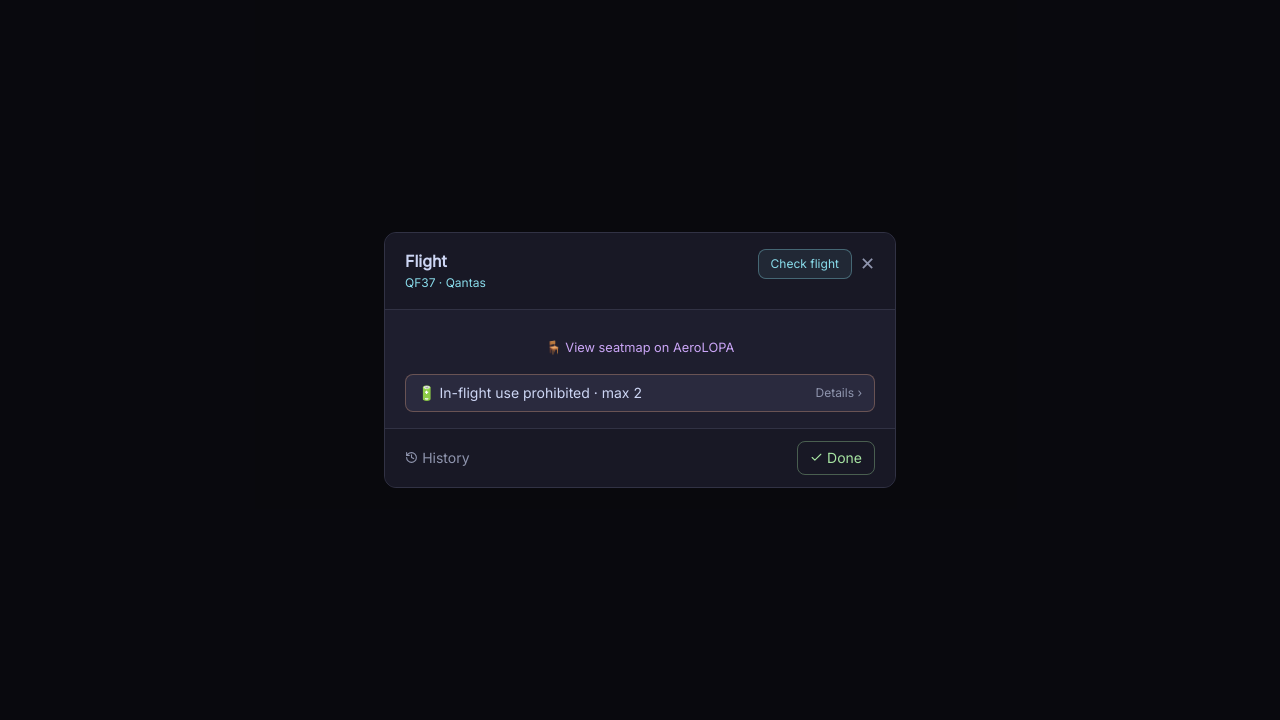
Test case: FlightDetailModal — status toggle › shows a Done control wired to the item
This screenshot has width=1280, height=720.
Click the button "Done".
click(836, 458)  # box 797,441 -> 875,475
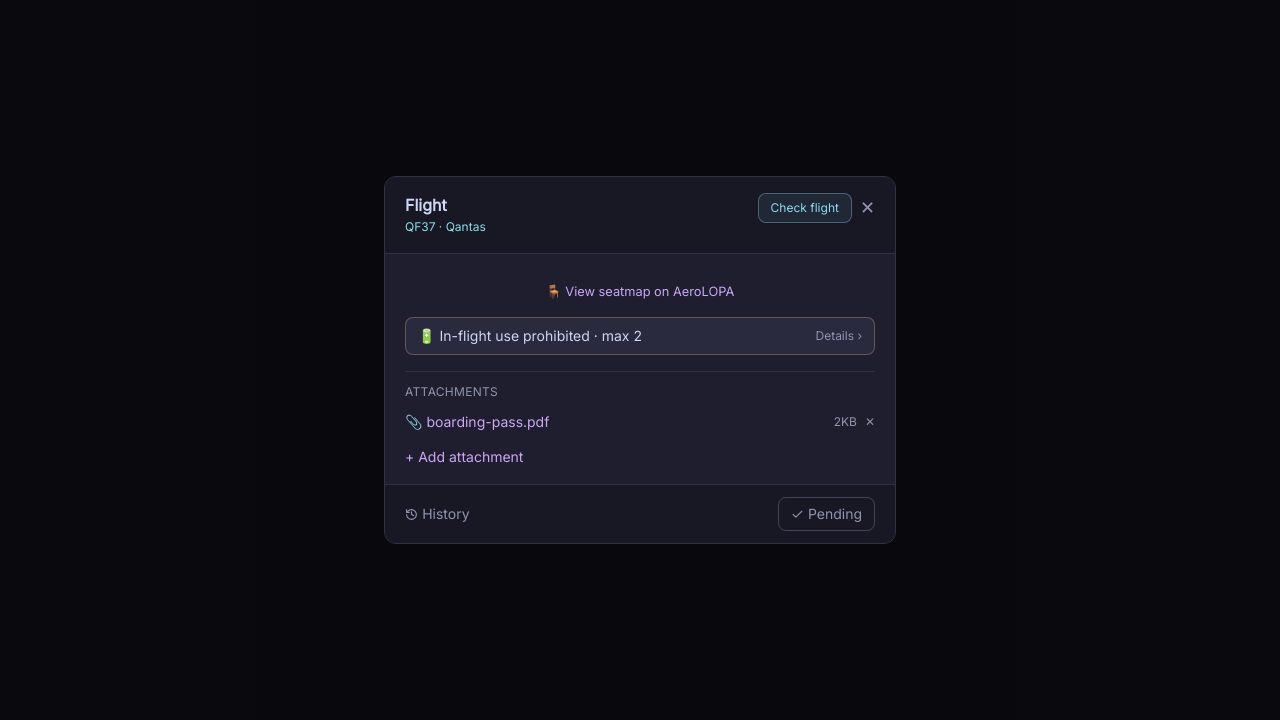
Result: the button "Pending" is shown at 778,497 -> 875,531
